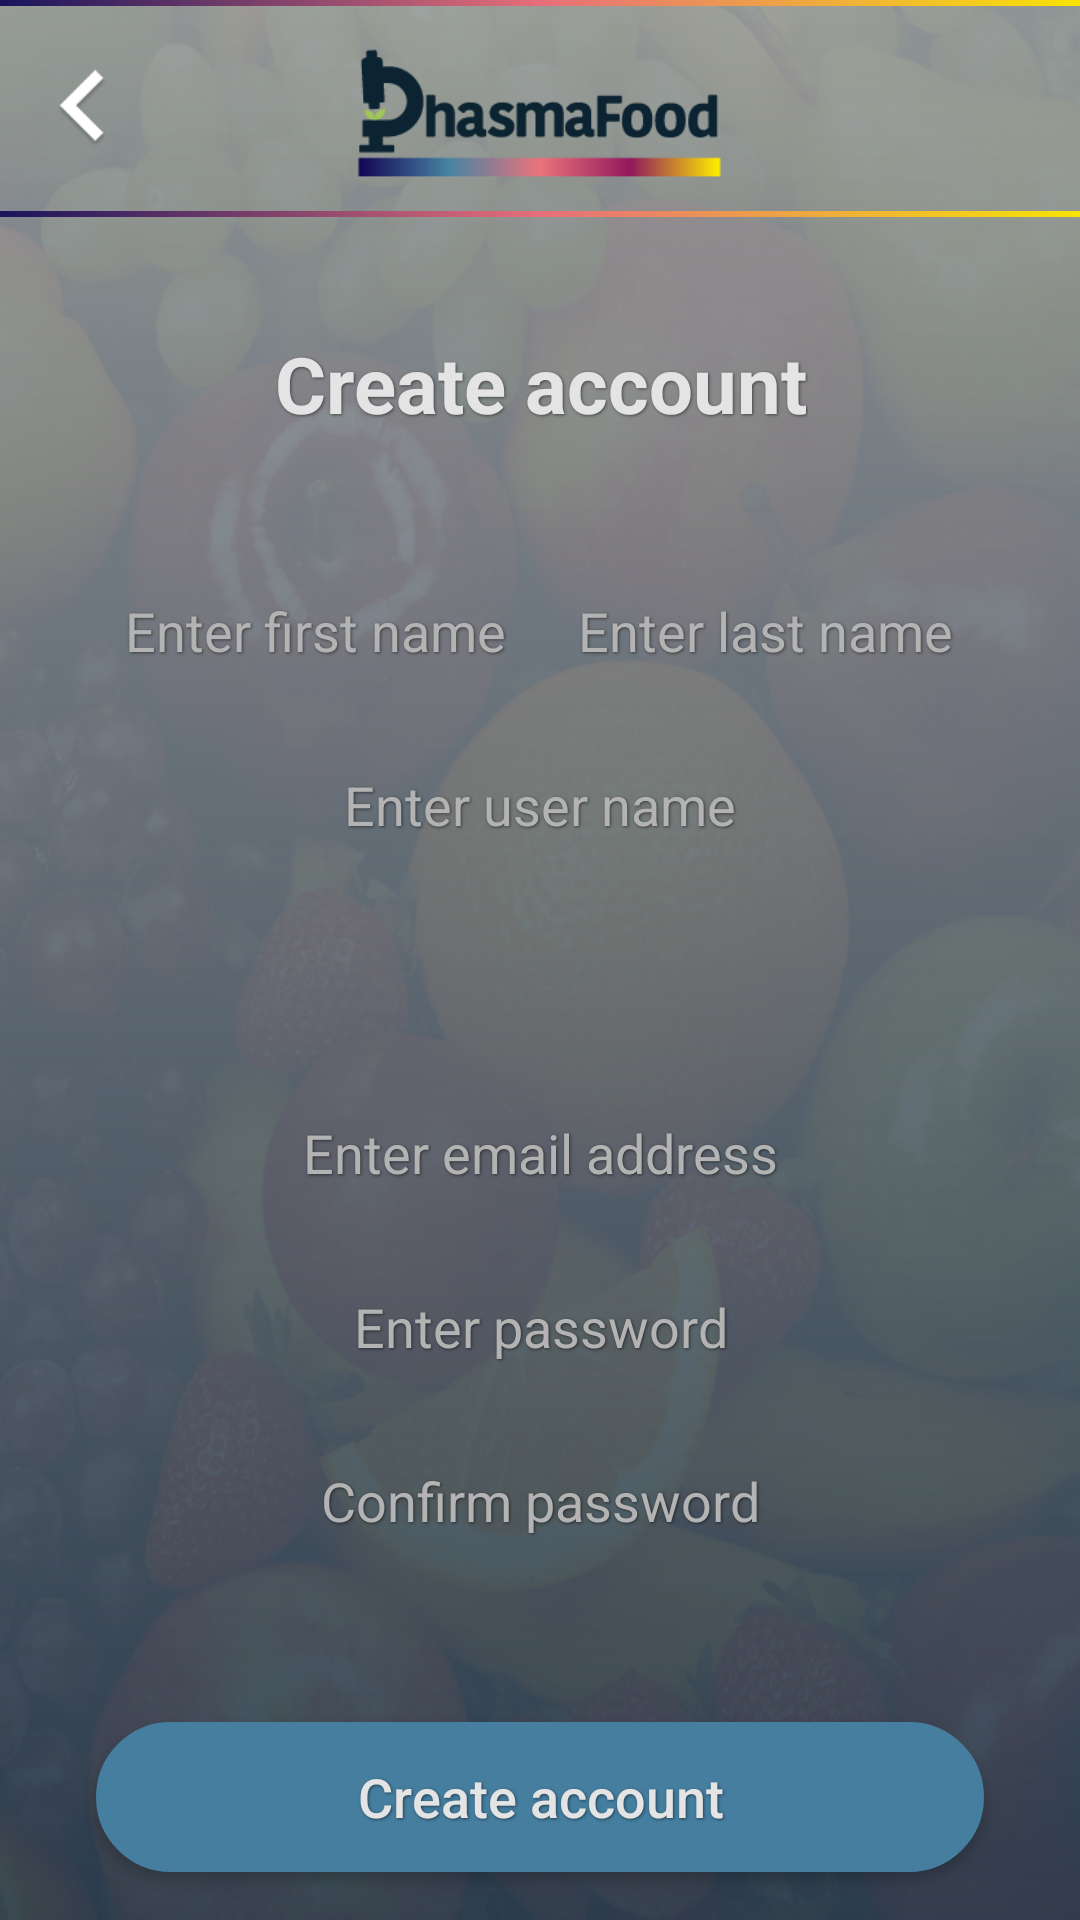

Locate icon controls on the screen. Image size 1080×1920, boxes as (x1, y1, x2, y2).
back: (60, 70, 103, 143)
